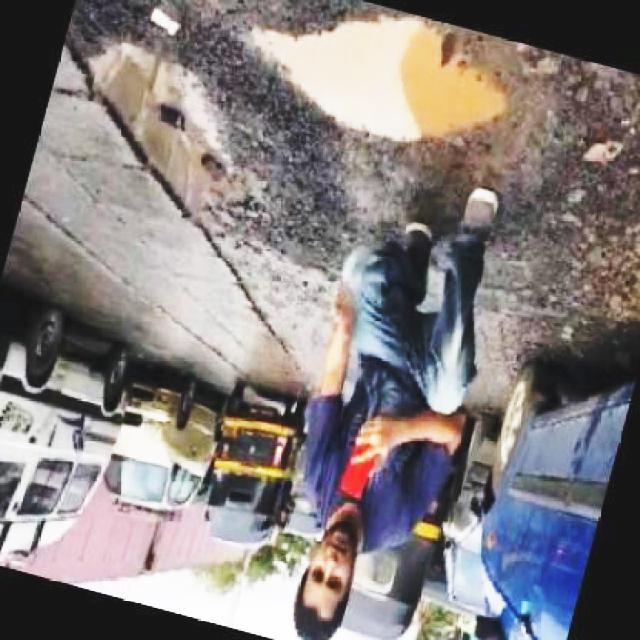pothole: (223, 0, 525, 151), (77, 45, 255, 229)
